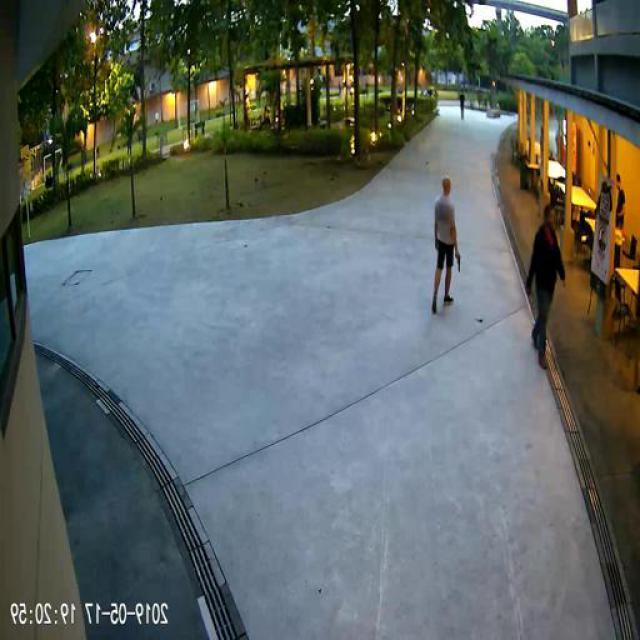Gun: (458, 249, 462, 270)
